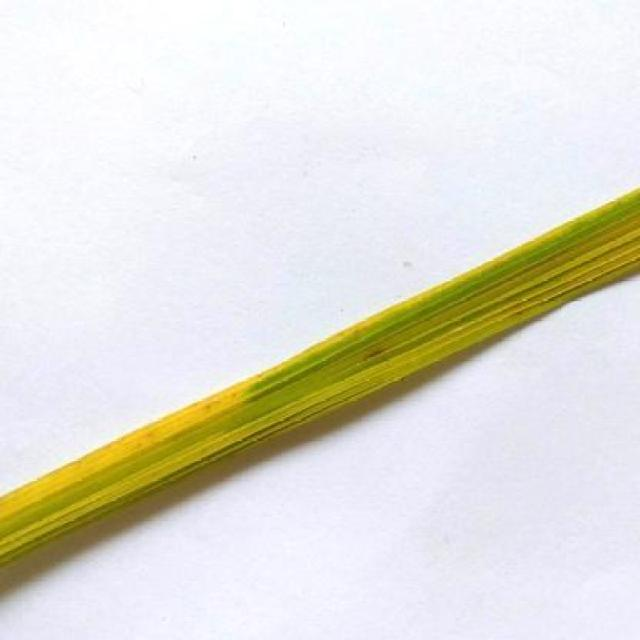Bacterial_Leaf_Blight: (357, 338, 392, 365)
Rice False Smut: (0, 189, 640, 565)
